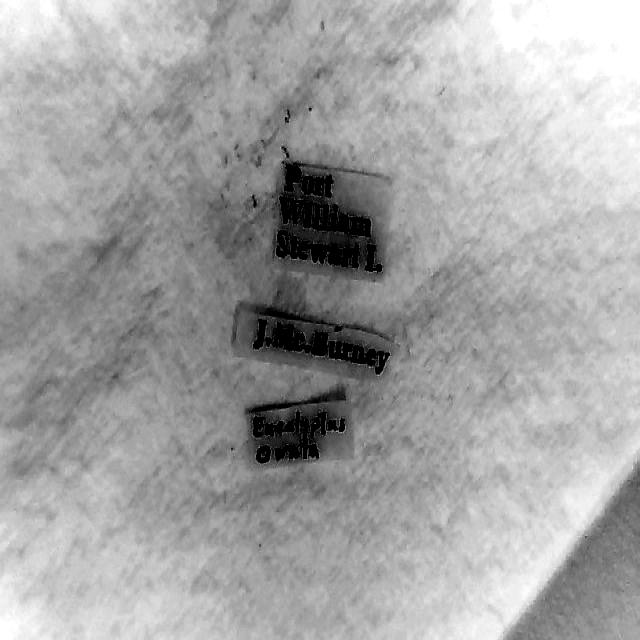hand_label: (249, 402, 354, 464)
typed_label: (275, 162, 391, 279), (232, 305, 392, 378)
